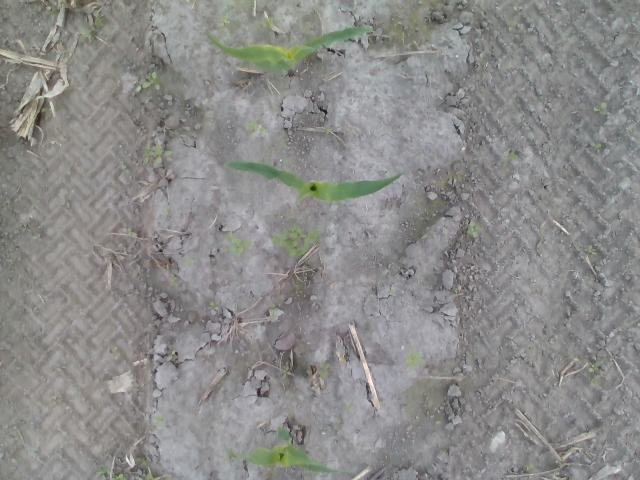Maize: (221, 154, 402, 204), (206, 26, 374, 76), (224, 422, 357, 476)
Weeds: (270, 223, 320, 259), (223, 234, 257, 256), (80, 15, 106, 40), (142, 142, 174, 162), (133, 70, 161, 90), (403, 350, 425, 368), (97, 467, 127, 480), (222, 446, 240, 464), (247, 120, 270, 134), (588, 360, 598, 384), (466, 222, 481, 238), (136, 471, 161, 480), (592, 102, 608, 116), (119, 160, 132, 177), (585, 244, 602, 257), (504, 18, 519, 32), (318, 362, 330, 378), (152, 414, 164, 429), (40, 107, 52, 121), (46, 6, 60, 17), (166, 350, 178, 361), (208, 300, 220, 311), (264, 15, 274, 28), (126, 227, 136, 239), (168, 274, 178, 286), (280, 366, 290, 378), (592, 143, 604, 153), (522, 464, 536, 472), (184, 256, 194, 267), (164, 207, 173, 218), (343, 403, 352, 413), (438, 448, 448, 456), (222, 15, 232, 23), (387, 287, 395, 296), (512, 151, 518, 161), (326, 128, 334, 134)
